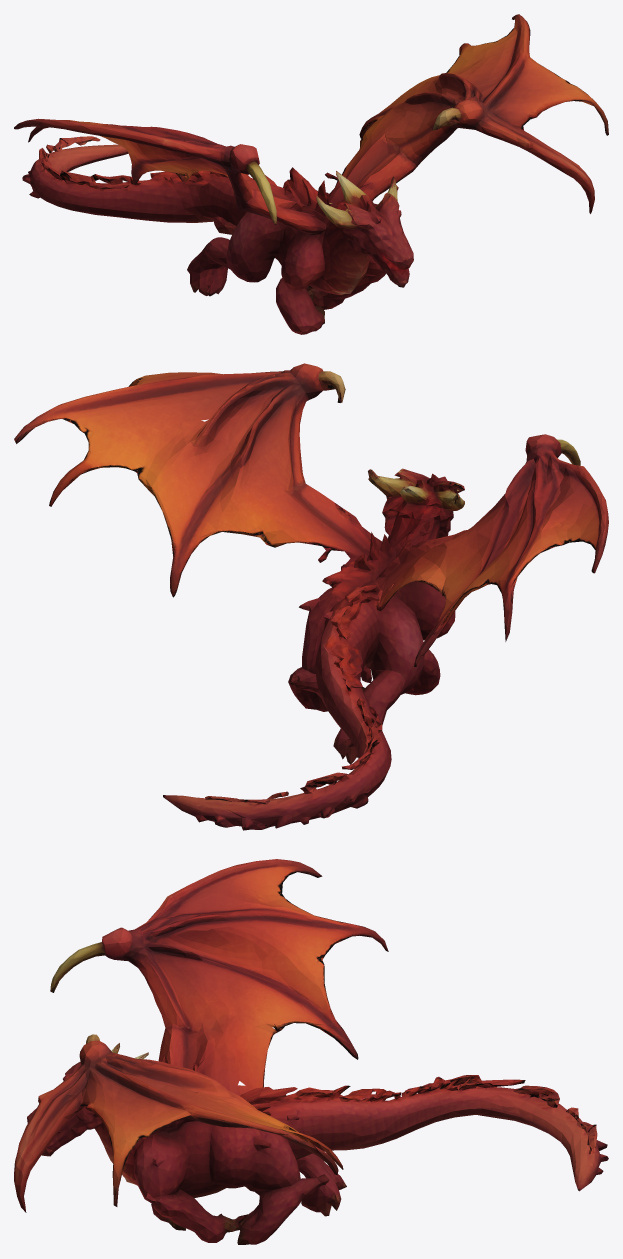
File: vharok_fly.glb
The picture shows the model from 3 angles, top to bottom: view 1: azimuth 30°, elevation 25°; view 2: azimuth 150°, elevation 25°; view 3: azimuth 270°, elevation 25°; orthographic projection. The views are drawn at different scales.
Parts seen in each view (by area): view 1: geometry_0; view 2: geometry_0; view 3: geometry_0.
Part boxes in pixels (<box>): geometry_0: <box>14,14,608,334</box>; geometry_0: <box>14,363,608,830</box>; geometry_0: <box>14,859,608,1244</box>.
Bounding box in the file's own units: 0.9998 × 0.4544 × 0.9467.
1 material, 1 textured.
